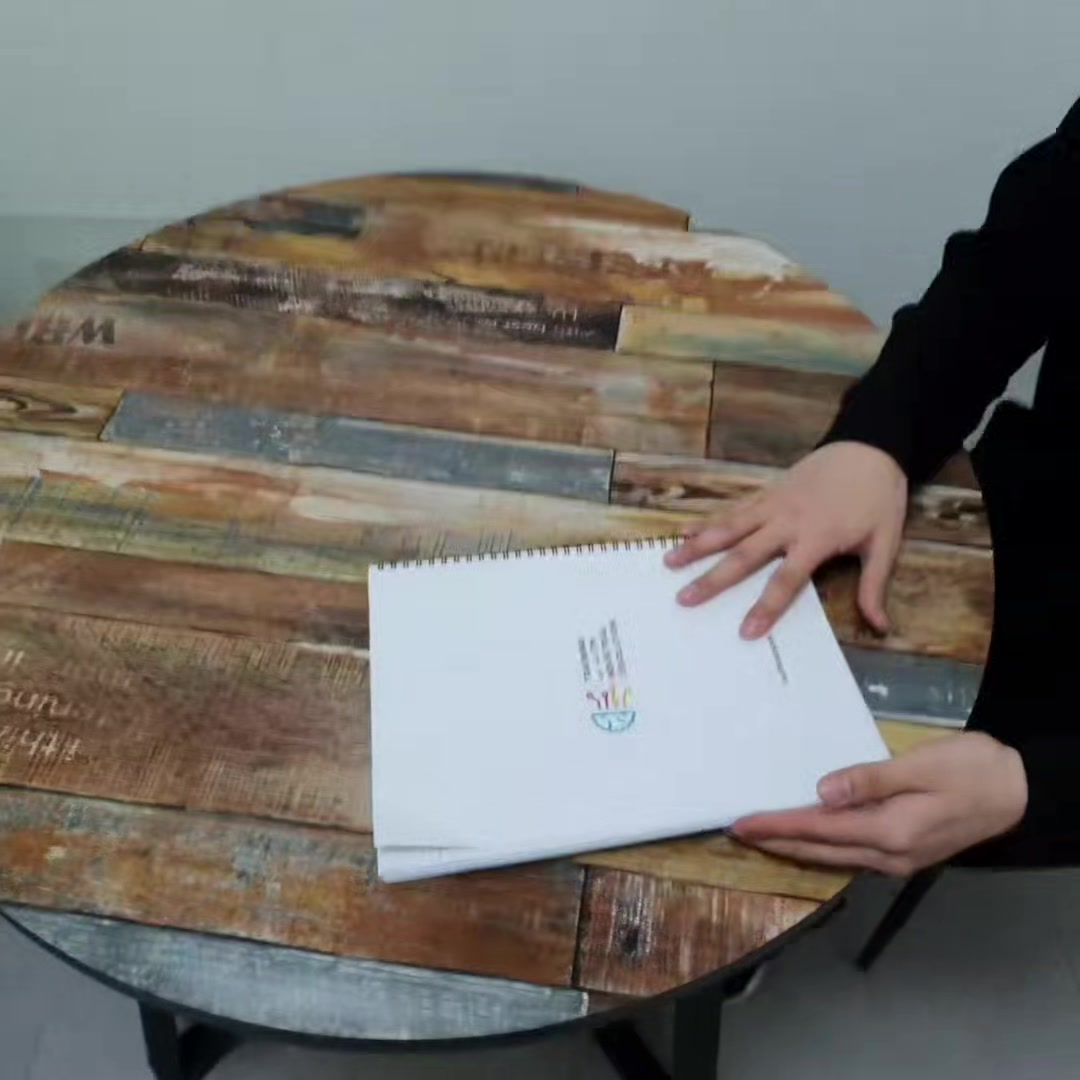book: (353, 502, 913, 886)
